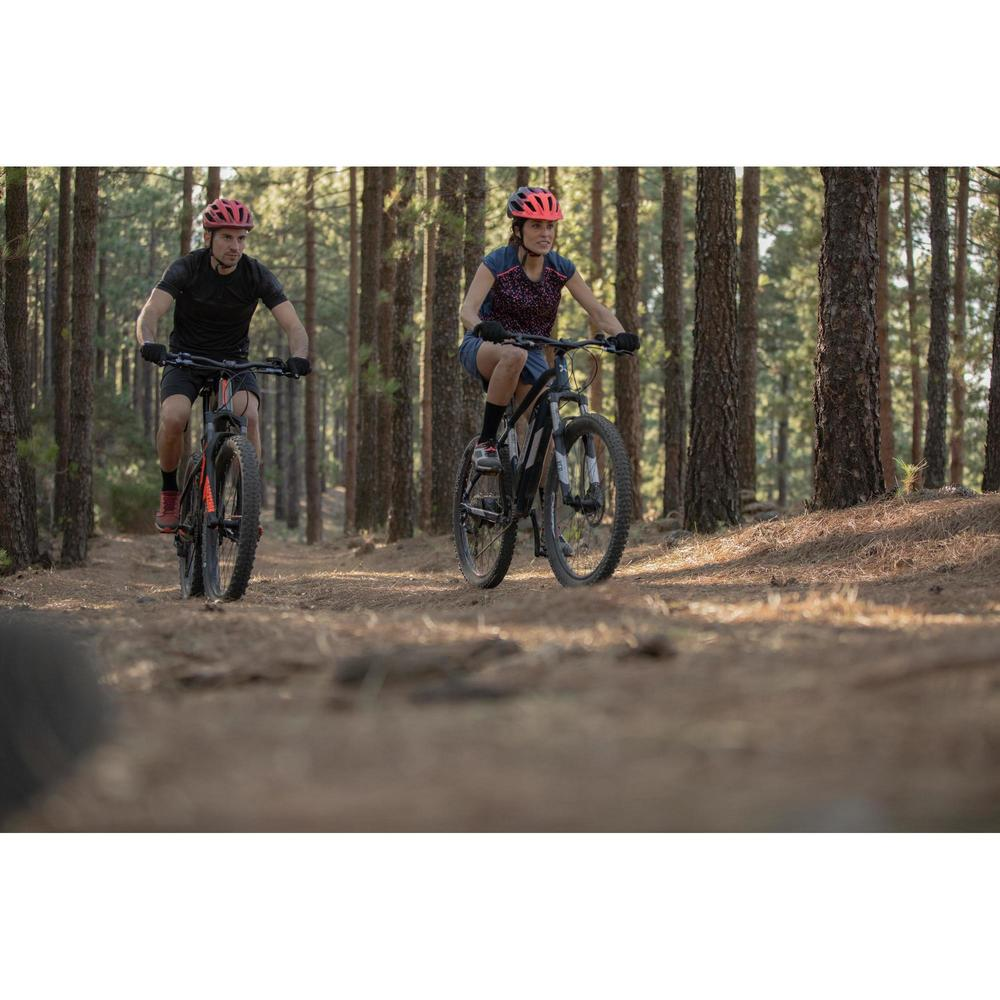MountainBike: (444, 317, 630, 605), (136, 327, 316, 613)
